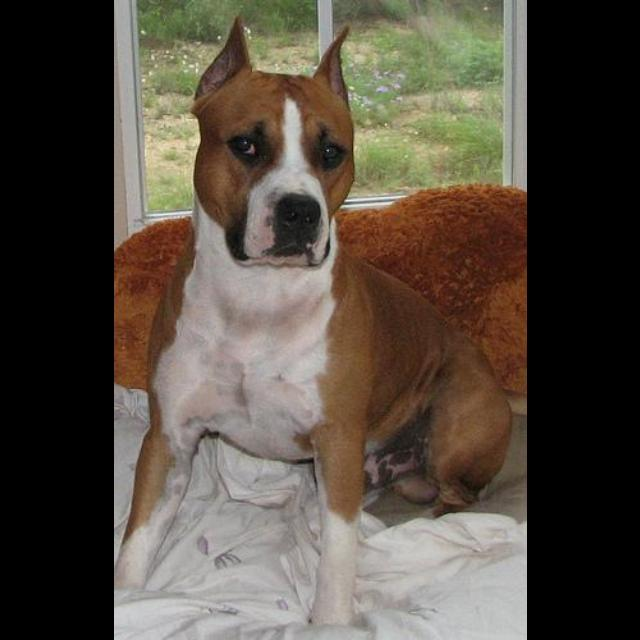amstaff: (115, 14, 514, 628)
